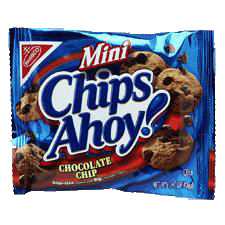grozi_107: (9, 27, 215, 199)
